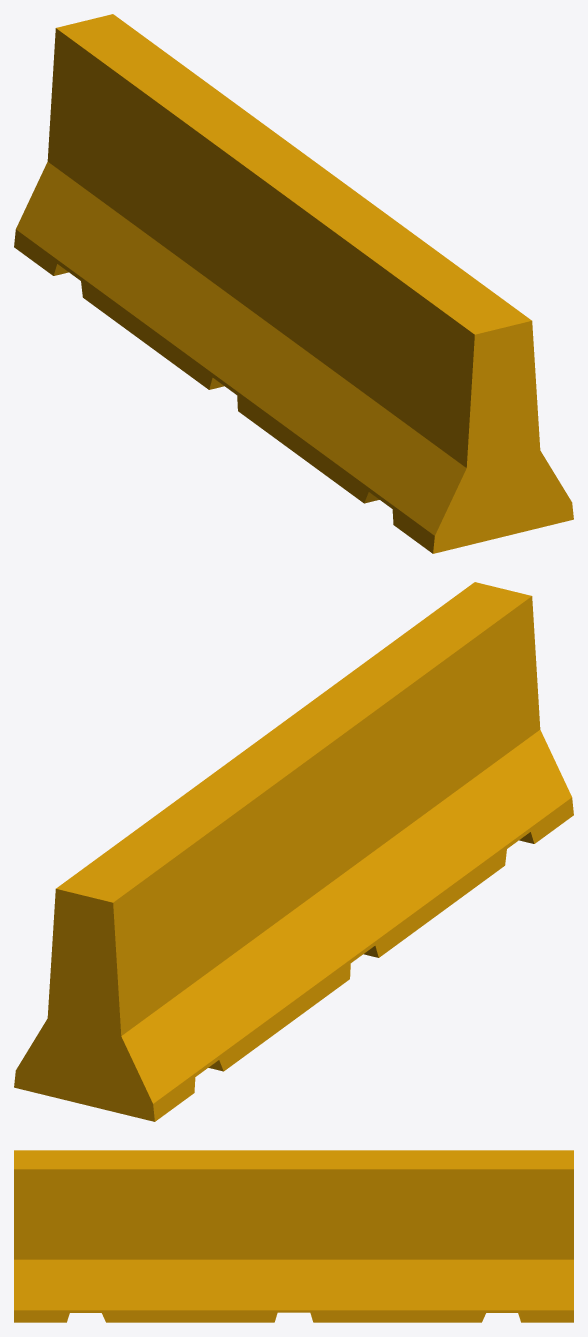
Rendered from svodidlo.fbx.
3 views of the same model, one above another, from view 1: azimuth 30°, elevation 25°; view 2: azimuth 150°, elevation 25°; view 3: azimuth 270°, elevation 25° (orthographic). The views are drawn at different scales.
Parts seen in each view (by area): view 1: Cube.001; view 2: Cube.001; view 3: Cube.001.
Part boxes in pixels (bbox=[...]): Cube.001: bbox=[14, 14, 573, 553]; Cube.001: bbox=[14, 582, 573, 1121]; Cube.001: bbox=[14, 1150, 573, 1322].
Size of the model in its own units: 268 by 380 by 1381.
